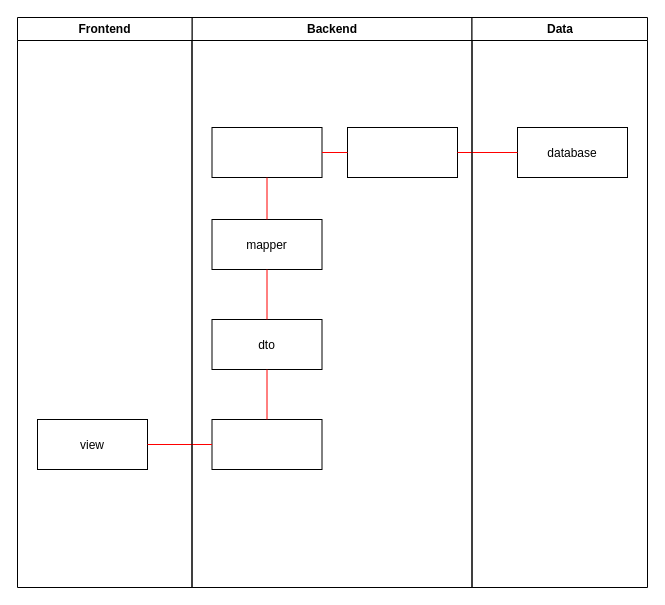
Image size: 665x605. Some labels were removed from this diagram. Each missing label, with the box of its shape:
controller: (211, 418, 322, 470)
entity: (211, 126, 322, 178)
repository: (346, 126, 458, 178)
